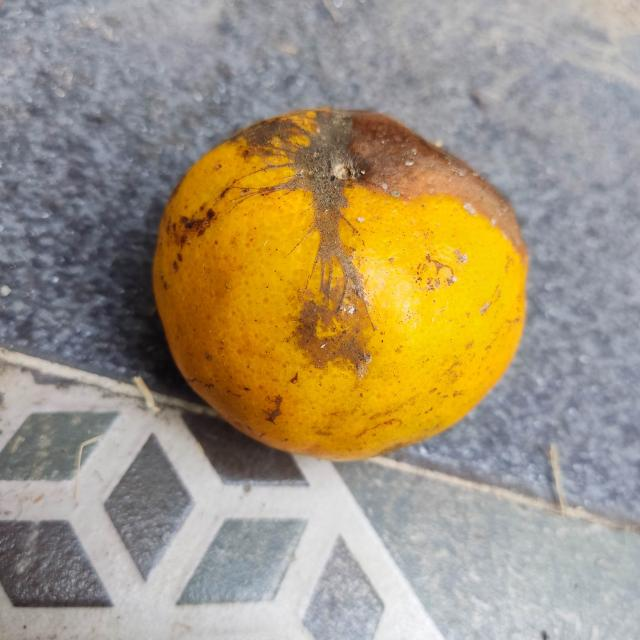orange: (148, 105, 530, 460)
